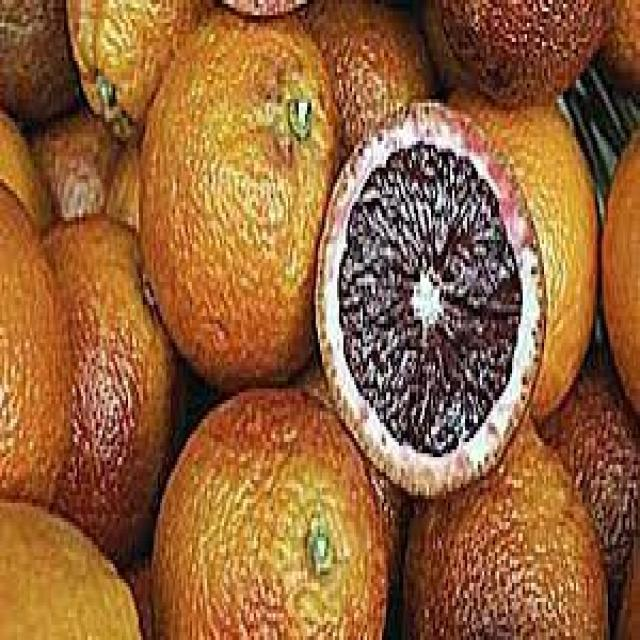Orange: (132, 14, 346, 395), (150, 384, 390, 636), (32, 215, 171, 561), (451, 95, 600, 412), (401, 415, 608, 636), (0, 186, 68, 518), (297, 2, 427, 146), (602, 130, 640, 411)
